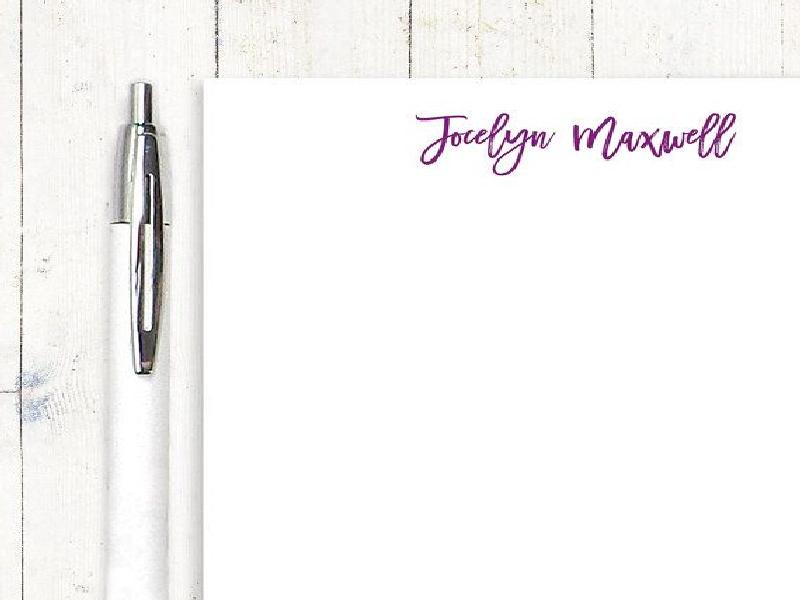pen: (104, 75, 180, 600)
